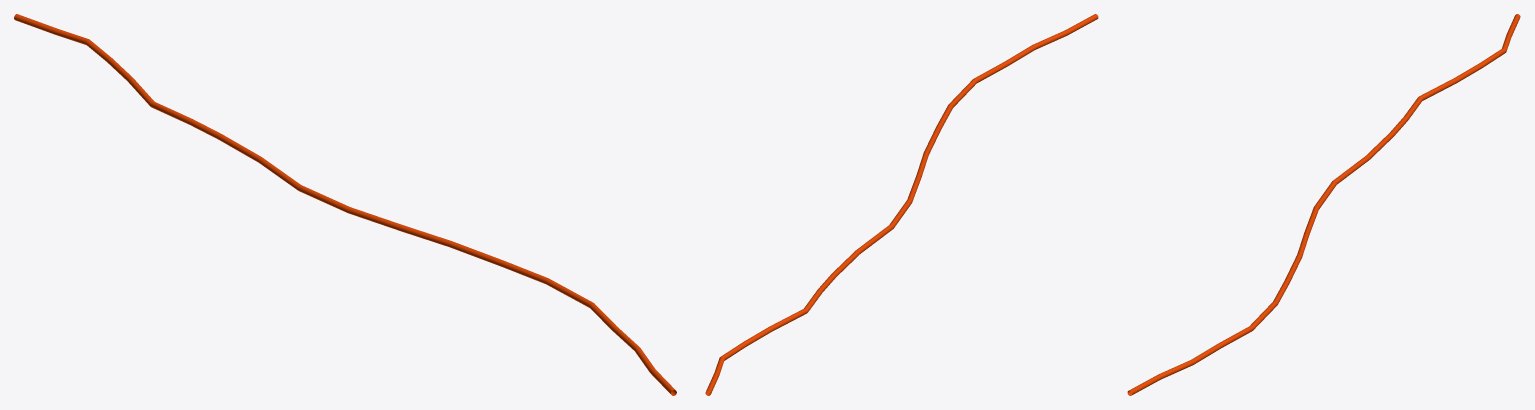
File: Cable1.fbx
3 views of the same model, side by side, from view 1: azimuth 30°, elevation 25°; view 2: azimuth 150°, elevation 25°; view 3: azimuth 330°, elevation 25° (orthographic). The views are drawn at different scales.
Parts seen in each view (by area): view 1: Vert; view 2: Vert; view 3: Vert.
Part boxes in pixels (x1=…): Vert: x1=14, y1=14, x2=676, y2=395; Vert: x1=705, y1=14, x2=1098, y2=395; Vert: x1=1127, y1=14, x2=1520, y2=395.
Bounding box in the file's own units: 49.79 × 2 × 335.
